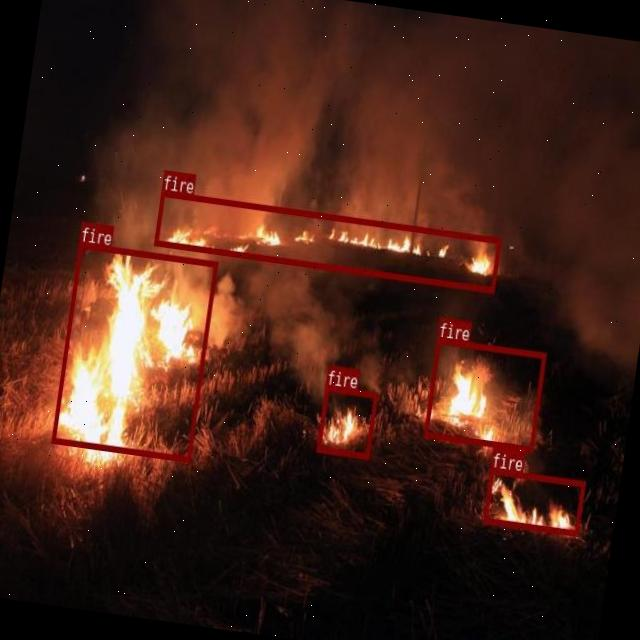fire: (50, 243, 218, 462), (153, 190, 501, 292), (424, 338, 547, 450), (482, 468, 585, 536), (316, 384, 378, 458)
